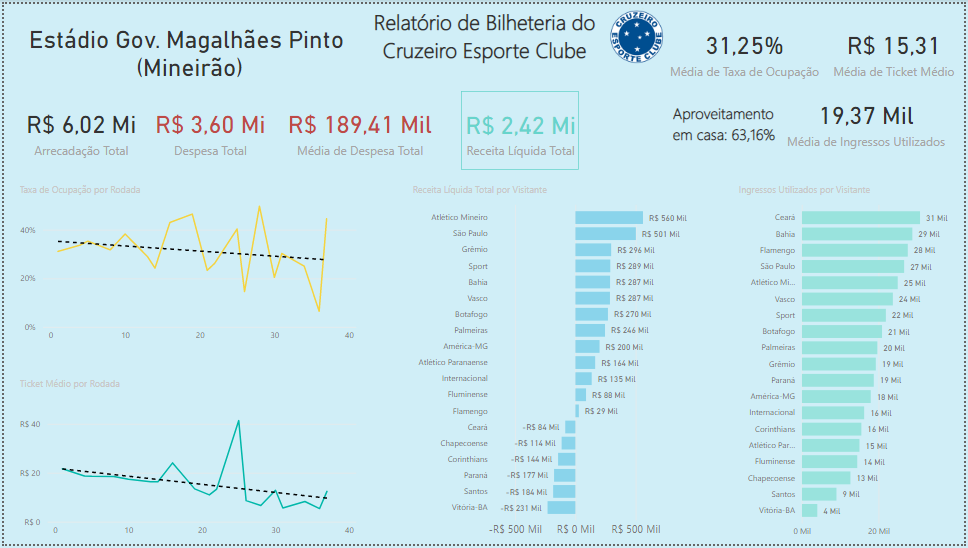

This screenshot's page, from the dashboard's own definition file:
{"tool":"powerbi","page":{"name":"Página 2","canvas":[1280,720],"ordinal":1},"visuals":[{"type":"textbox","box":[463.8,0,353.6,115.3],"z":0},{"type":"image","box":[800.7,0,84.6,87.1],"z":1000},{"type":"card","fields":{"Values":["Sum(Cruzeiro Esporte Clube.Arrecadação Total)"]},"box":[16,115.8,174.3,105.1],"z":2000},{"type":"card","fields":{"Values":["Sum(Cruzeiro Esporte Clube.Receita Líquida Total)"]},"box":[609.4,115.8,157,105.1],"z":3000},{"type":"card","fields":{"Values":["Sum(Cruzeiro Esporte Clube.Despesa Total)"]},"box":[190.3,115.8,169,105.1],"z":4000},{"type":"card","fields":{"Values":["Avg(Cruzeiro Esporte Clube.Taxa de Ocupação)"]},"box":[868.9,10.6,235.5,105.1],"z":5000},{"type":"card","fields":{"Values":["Avg(Cruzeiro Esporte Clube.Despesa Total)"]},"box":[359.3,115.8,231.5,105.1],"z":6000},{"type":"card","fields":{"Values":["Avg(Cruzeiro Esporte Clube.Ingressos Utilizados)"]},"box":[1037.8,103.8,223.5,105.1],"z":7000},{"type":"card","fields":{"Values":["Avg(Cruzeiro Esporte Clube.Ticket Médio)"]},"box":[1093.7,10.6,186.3,105.1],"z":8000},{"type":"lineChart","fields":{"Category":["Cruzeiro Esporte Clube.Rodada"],"Y":["Sum(Cruzeiro Esporte Clube.Taxa de Ocupação)"]},"box":[16,238.2,459,220.9],"z":9000},{"type":"lineChart","fields":{"Category":["Cruzeiro Esporte Clube.Rodada"],"Y":["Sum(Cruzeiro Esporte Clube.Ticket Médio)"]},"box":[16,497.6,459,222.2],"z":10000},{"type":"clusteredBarChart","fields":{"Category":["Cruzeiro Esporte Clube.Visitante"],"Y":["Sum(Cruzeiro Esporte Clube.Receita Líquida Total)"]},"box":[540.2,238.2,416.5,481.7],"z":11000},{"type":"clusteredBarChart","fields":{"Category":["Cruzeiro Esporte Clube.Visitante"],"Y":["Sum(Cruzeiro Esporte Clube.Ingressos Utilizados)"]},"box":[975.3,238.2,304.7,481.7],"z":12000},{"type":"textbox","box":[886.2,126.4,175.6,82.5],"z":13000},{"type":"card","fields":{"Values":["Min(Ambos.Local)"]},"box":[0,0,495,126.4],"z":14000}]}

Visuals, with their boxes in screenshot pixels (x1, y1, x2, y2), scaled from the page's 1280x720 canvas onto the 968x548 screenshot:
textbox: {"left": 351, "top": 0, "right": 618, "bottom": 88}
image: {"left": 606, "top": 0, "right": 670, "bottom": 66}
card - Sum(Cruzeiro Esporte Clube.Arrecadação Total): {"left": 12, "top": 88, "right": 144, "bottom": 168}
card - Sum(Cruzeiro Esporte Clube.Receita Líquida Total): {"left": 461, "top": 88, "right": 580, "bottom": 168}
card - Sum(Cruzeiro Esporte Clube.Despesa Total): {"left": 144, "top": 88, "right": 272, "bottom": 168}
card - Avg(Cruzeiro Esporte Clube.Taxa de Ocupação): {"left": 657, "top": 8, "right": 835, "bottom": 88}
card - Avg(Cruzeiro Esporte Clube.Despesa Total): {"left": 272, "top": 88, "right": 447, "bottom": 168}
card - Avg(Cruzeiro Esporte Clube.Ingressos Utilizados): {"left": 785, "top": 79, "right": 954, "bottom": 159}
card - Avg(Cruzeiro Esporte Clube.Ticket Médio): {"left": 827, "top": 8, "right": 967, "bottom": 88}
lineChart - Cruzeiro Esporte Clube.Rodada x Sum(Cruzeiro Esporte Clube.Taxa de Ocupação): {"left": 12, "top": 181, "right": 359, "bottom": 349}
lineChart - Cruzeiro Esporte Clube.Rodada x Sum(Cruzeiro Esporte Clube.Ticket Médio): {"left": 12, "top": 379, "right": 359, "bottom": 547}
clusteredBarChart - Cruzeiro Esporte Clube.Visitante x Sum(Cruzeiro Esporte Clube.Receita Líquida Total): {"left": 409, "top": 181, "right": 724, "bottom": 547}
clusteredBarChart - Cruzeiro Esporte Clube.Visitante x Sum(Cruzeiro Esporte Clube.Ingressos Utilizados): {"left": 738, "top": 181, "right": 967, "bottom": 547}
textbox: {"left": 670, "top": 96, "right": 803, "bottom": 159}
card - Min(Ambos.Local): {"left": 0, "top": 0, "right": 374, "bottom": 96}
